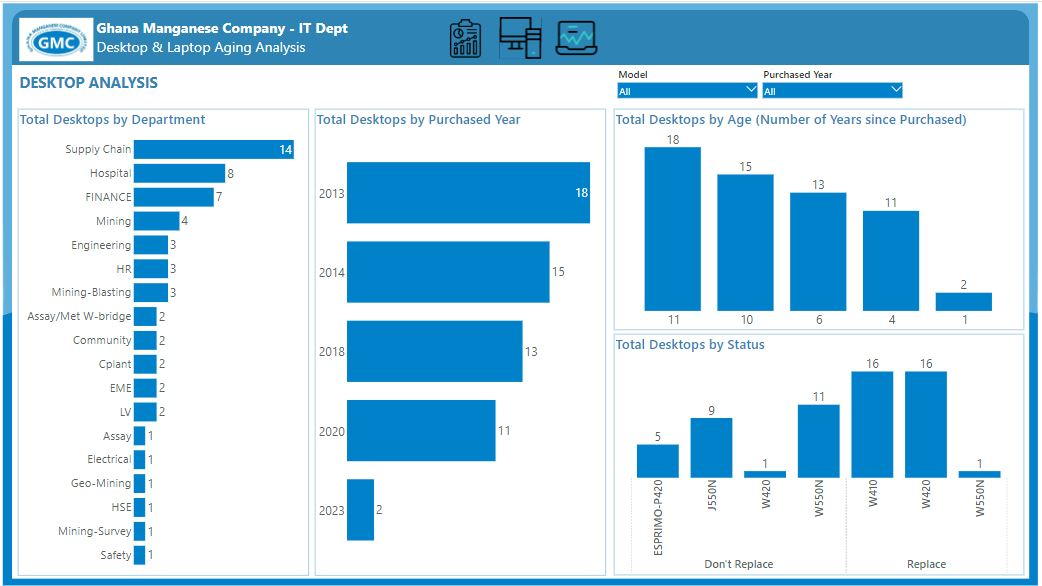

Layout of this report page (visuals, bound fields, positions):
{"tool":"powerbi","page":{"name":"Desktop","canvas":[4155,2320],"ordinal":1},"visuals":[{"type":"image","box":[35.7,0,4119.3,2318.8],"z":0},{"type":"shape","box":[80.4,31.3,4034.4,218.9],"z":1000},{"type":"shape","box":[80.4,250.2,4034.4,2037.3],"z":2000},{"type":"image","box":[102.8,22.3,303.8,250.2],"z":3000},{"type":"textbox","box":[406.6,58.1,1108,183.2],"z":4000},{"type":"actionButton","box":[2213,53.6,210,174.2],"z":5000},{"type":"actionButton","box":[1992.6,53.6,210,174.2],"z":6000},{"type":"textbox","box":[102.8,272.5,576.3,89.4],"z":7000},{"type":"clusteredBarChart","title":"Total Desktops by Department","fields":{"Category":["Desktop_PC.DEPARTMENT ","Desktop_PC.MODEL"],"Y":["Device_Measures.Total Desktops"]},"box":[102.8,424.4,1152.7,1849.6],"z":8000},{"type":"clusteredColumnChart","title":"Total Desktops by Age (Number of Years since Purchased)","fields":{"Category":["Desktop_PC.Number of Years","Desktop_PC.MODEL"],"Y":["Device_Measures.Total Desktops"]},"box":[2466.2,424.4,1626.3,875.7],"z":9000},{"type":"clusteredBarChart","title":"Total Desktops by Purchased Year","fields":{"Category":["Desktop_PC.PURCHASED DATE"],"Y":["Device_Measures.Total Desktops"]},"box":[1282.2,424.4,1152.7,1849.6],"z":10000},{"type":"clusteredColumnChart","title":"Total Desktops by Status","fields":{"Category":["Desktop_PC.Desktop Status","Desktop_PC.MODEL"],"Y":["Device_Measures.Total Desktops"]},"box":[2466.2,1318,1626.3,956.1],"z":11000},{"type":"slicer","fields":{"Values":["Desktop_PC.Model"]},"box":[2470.7,254.7,576.3,151.9],"z":12000},{"type":"slicer","fields":{"Values":["Desktop_PC.Purchased Date"]},"box":[3047,254.7,576.3,151.9],"z":13000},{"type":"actionButton","box":[1791.6,58.1,169.8,169.8],"z":14000}]}

Visuals, with their boxes in screenshot pixels (x1, y1, x2, y2), scaled from the page's 4155x2320 canvas onto the 1042x586 screenshot:
image: (9,0,1041,585)
shape: (20,8,1032,63)
shape: (20,63,1032,578)
image: (26,6,102,69)
textbox: (102,15,380,61)
actionButton: (555,14,608,58)
actionButton: (500,14,552,58)
textbox: (26,69,170,91)
"Total Desktops by Department" clusteredBarChart: (26,107,315,574)
"Total Desktops by Age (Number of Years since Purchased)" clusteredColumnChart: (618,107,1026,328)
"Total Desktops by Purchased Year" clusteredBarChart: (322,107,611,574)
"Total Desktops by Status" clusteredColumnChart: (618,333,1026,574)
slicer - Desktop_PC.Model: (620,64,764,103)
slicer - Desktop_PC.Purchased Date: (764,64,909,103)
actionButton: (449,15,492,58)
